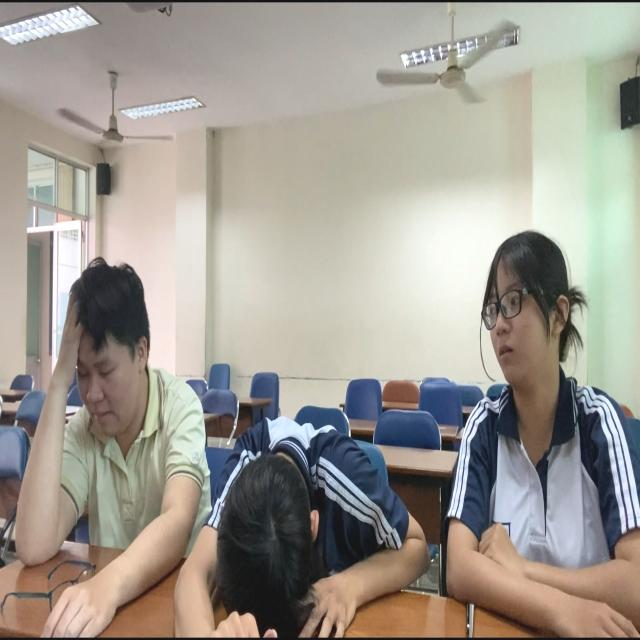sleep: (168, 422, 432, 640)
